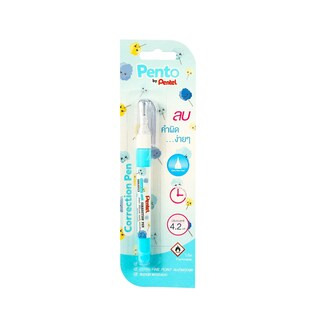Correction_fluid: (131, 97, 160, 272)
